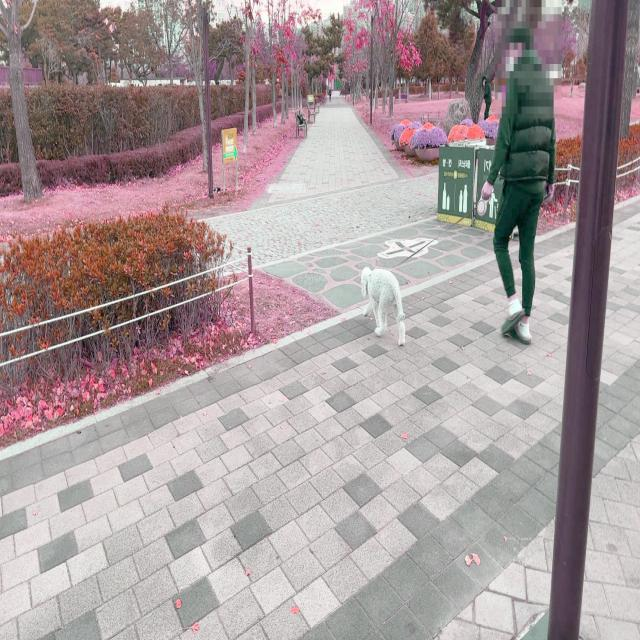Leashed_Dog: (361, 179, 512, 345)
